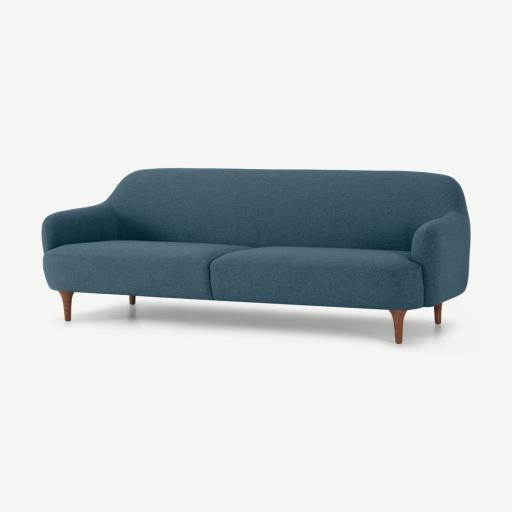back_cushion: (84, 169, 467, 250)
left_arm: (411, 212, 470, 323)
legs: (390, 310, 406, 344), (59, 291, 73, 321), (435, 304, 442, 323), (129, 295, 135, 305)
right_arm: (42, 202, 117, 254)
seat_cushion: (44, 240, 423, 308)
two-seater: (0, 0, 511, 512)
